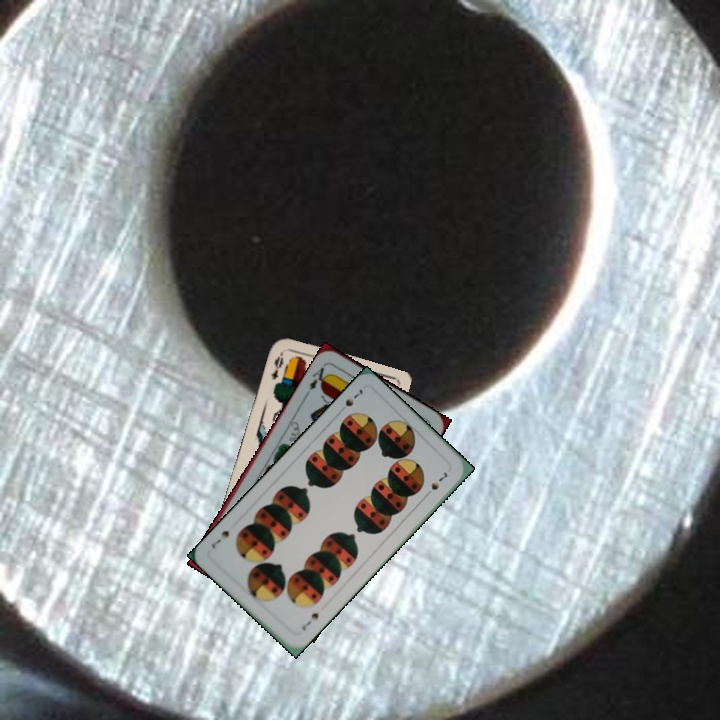EA: (302, 360, 332, 397)
EO: (267, 347, 286, 383)
S7: (334, 385, 365, 417), (298, 608, 321, 633)
